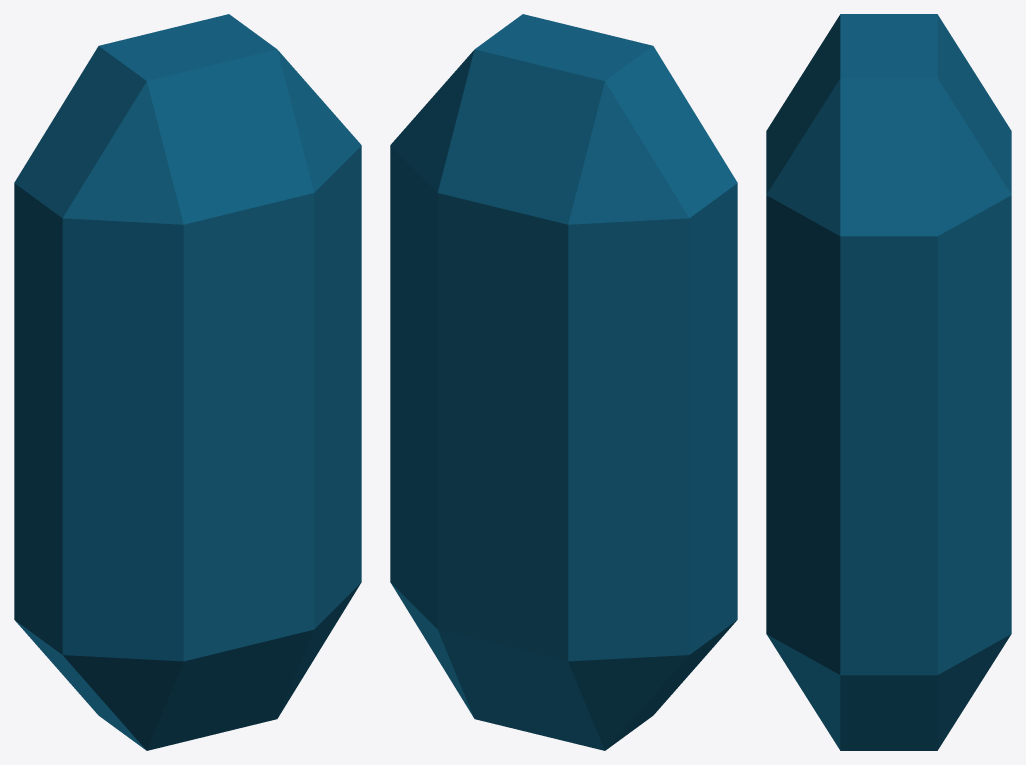
File: Gem_Blue.fbx
3 views of the same model, side by side, from view 1: azimuth 30°, elevation 25°; view 2: azimuth 150°, elevation 25°; view 3: azimuth 270°, elevation 25° (orthographic).
Visible parts, largest first — view 1: Gem_Blue; view 2: Gem_Blue; view 3: Gem_Blue.
Part boxes in pixels (bbox=[...]): Gem_Blue: bbox=[14, 14, 361, 750]; Gem_Blue: bbox=[390, 14, 737, 750]; Gem_Blue: bbox=[766, 14, 1011, 750].
Bounding box in the file's own units: 98.63 × 211 × 69.7.
